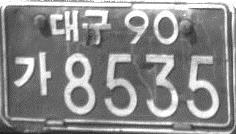0: (153, 9, 178, 45)
3: (144, 52, 179, 118)
5: (184, 52, 220, 119), (104, 52, 137, 118)
8: (61, 51, 97, 115)
9: (124, 9, 149, 45)
가: (13, 51, 52, 97)
대구_O: (47, 7, 113, 47)
